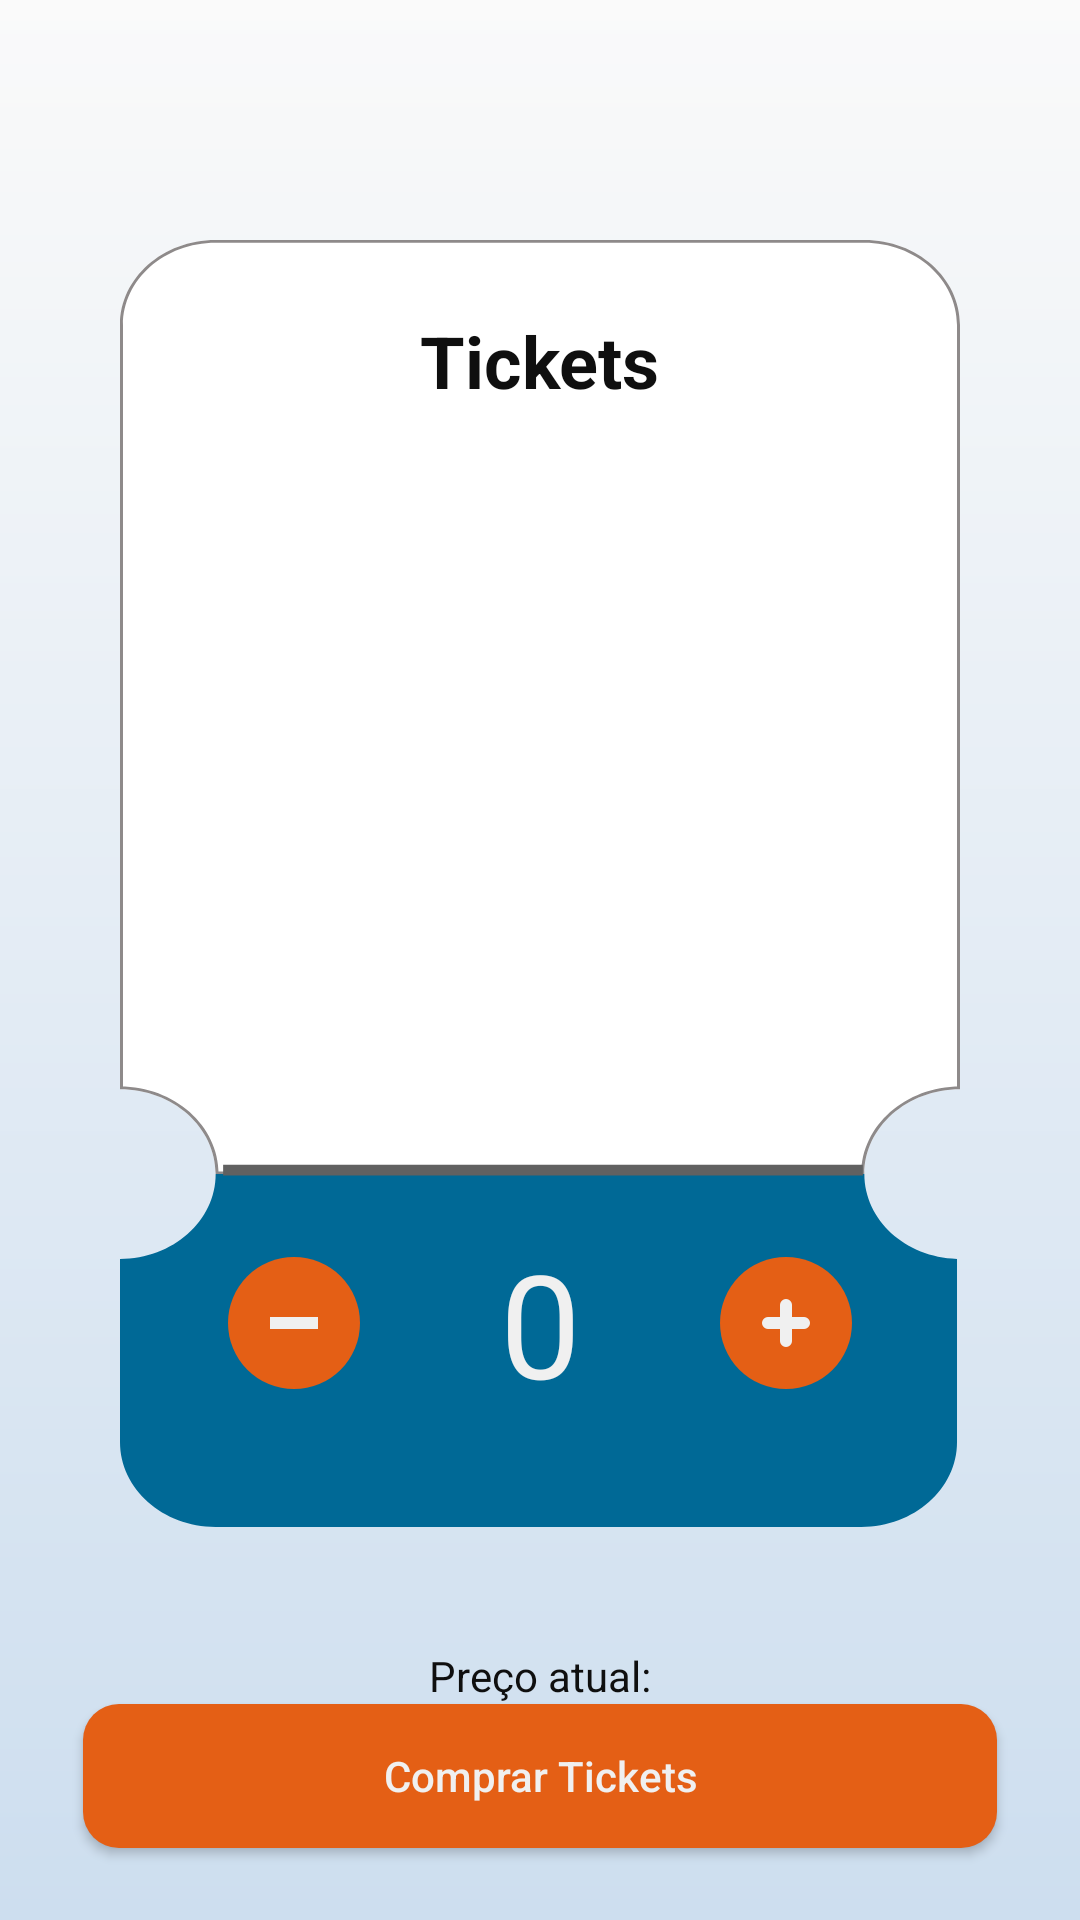

Icon bounding boxes for this 1080px×1920px phone screenshot, format (x1, y1, x2, y2):
add: (720, 1257, 852, 1389)
remove: (228, 1257, 360, 1389)
